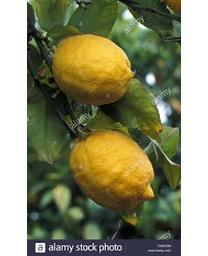lemon: (72, 131, 155, 210), (52, 35, 133, 107)
